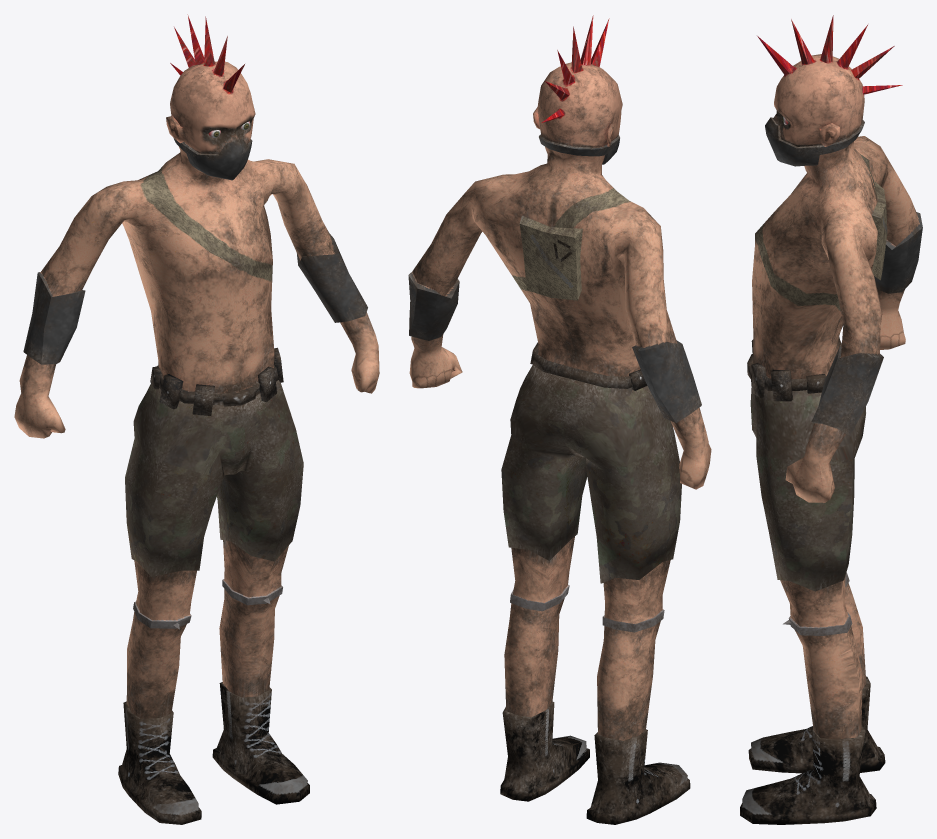
Rendered from Anim_arma_c_npc2.0014.obj.
3 renders of one model, left to right at view 1: azimuth 30°, elevation 25°; view 2: azimuth 150°, elevation 25°; view 3: azimuth 270°, elevation 25°, orthographic.
Parts seen in each view (by area): view 1: polySurface1; view 2: polySurface1; view 3: polySurface1.
Boxes of the visible parts, x1=… form: polySurface1: x1=14, y1=14, x2=379, y2=824; polySurface1: x1=408, y1=15, x2=711, y2=824; polySurface1: x1=740, y1=15, x2=922, y2=824.
Bounding box in the file's own units: 4.54 × 10.15 × 2.16.
